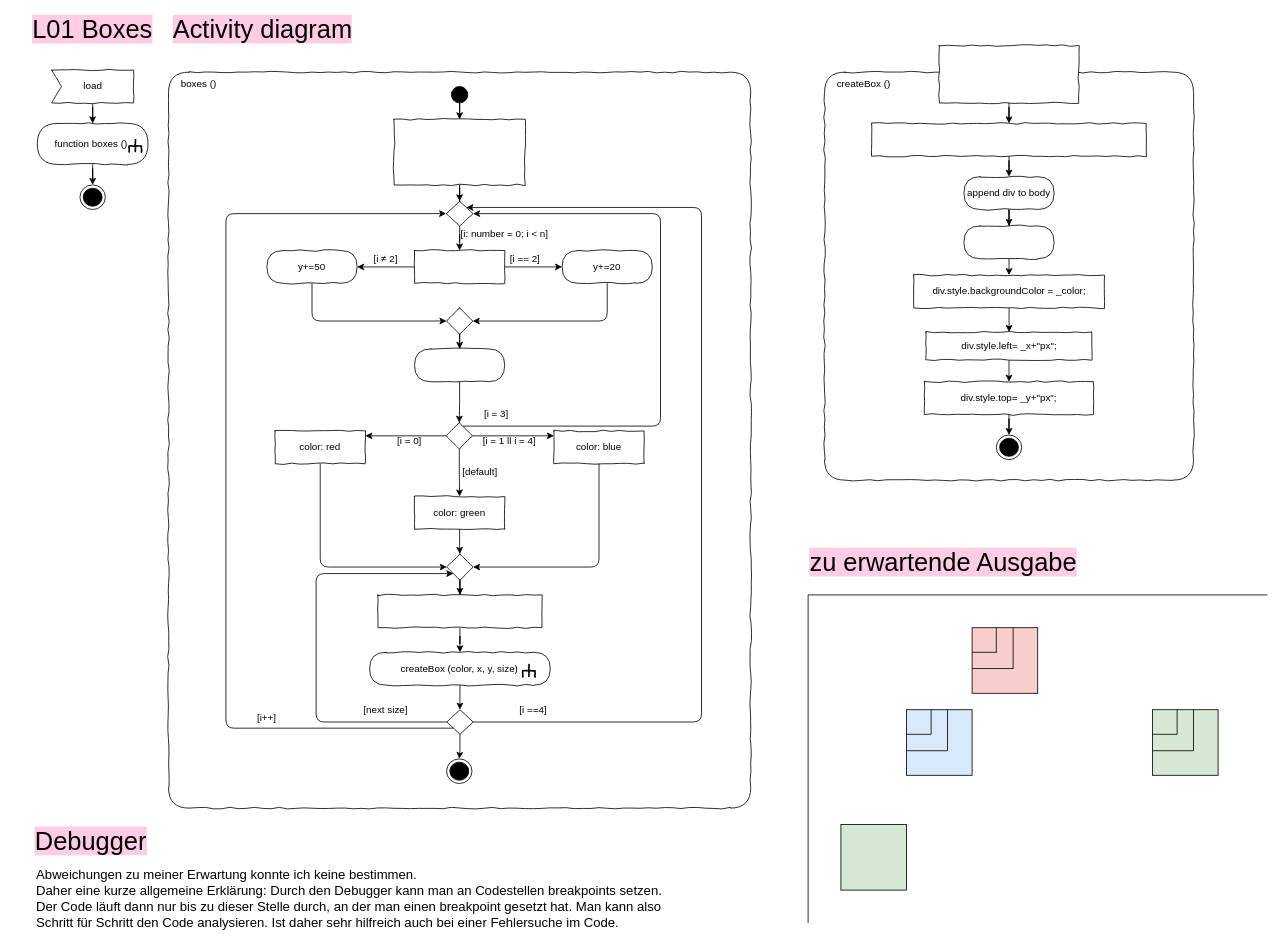
The diagram is 1283 pixels wide and 944 high, and some of its shapes have lost their labels. The shapes that lost their labels are listed below. From the top down, each one's centre as x and y in pixels, then its label:
(x=1008, y=74): _color:string _x: number _y: number _size: string
(x=459, y=151): let n: number = 5; let color: string; let x: number = 0; let y: number = 0;
(x=1008, y=139): let div: HTMLDivElement = document.createElement("div");
(x=1008, y=242): divClass is assigned to size
(x=459, y=266): i = 0
(x=459, y=365): x = (x+170) % 400
(x=459, y=611): size = ["big", "medium", "small"]
